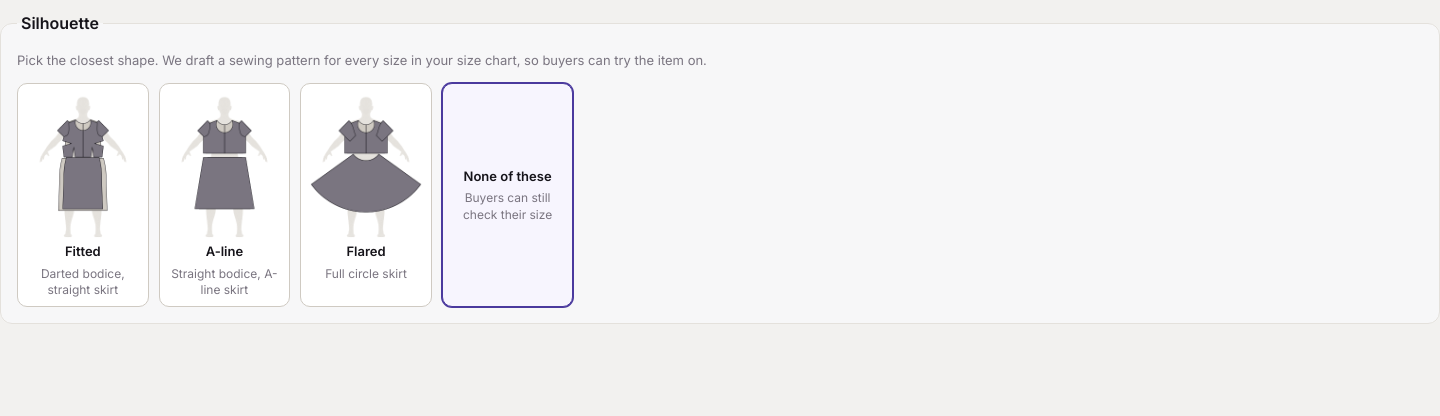
Test: picking a silhouette gives its default knobs; sleeve and length can be changed
Click the button "A-line Straight bodice, A-line skirt": (224, 195) [159,82,290,307]
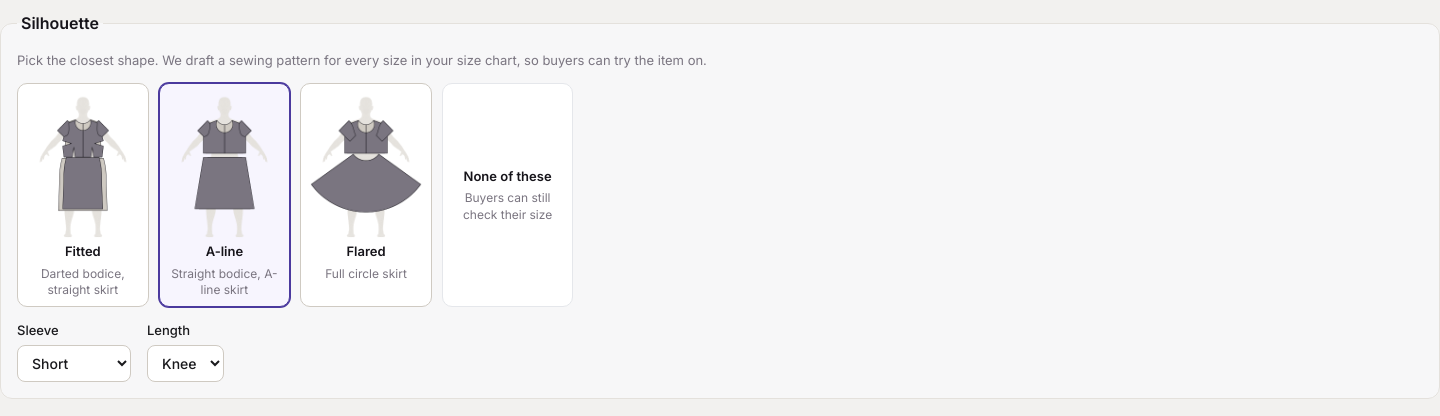
Expected: the button "A-line Straight bodice, A-line skirt" is pressed, [159,82,290,307]
Select "Long" in the dropdown labelled "Sleeve": (74, 363) [17,345,131,382]
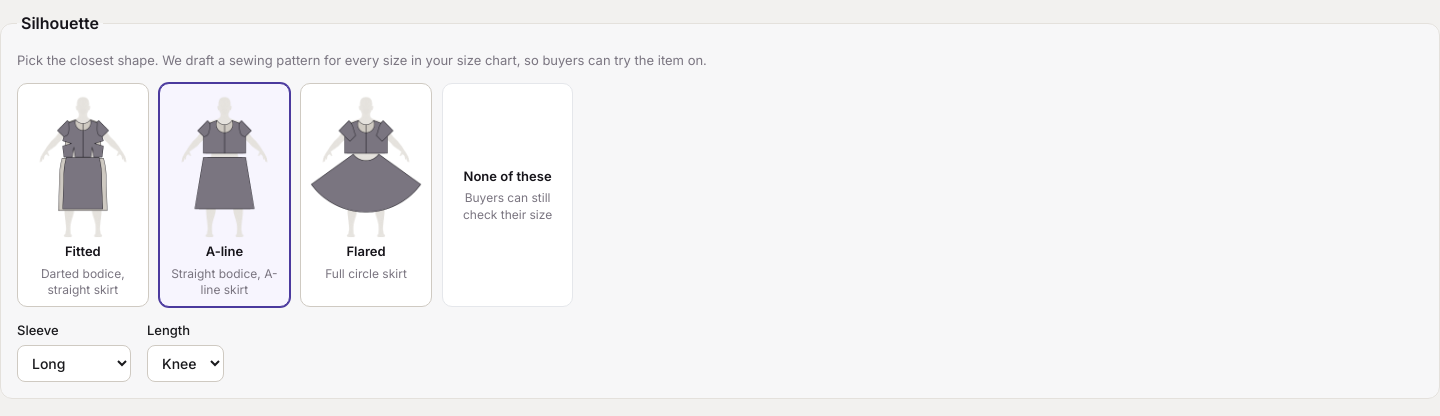
Select "Maxi" in the dropdown labelled "Length": (186, 363) [147,345,224,382]
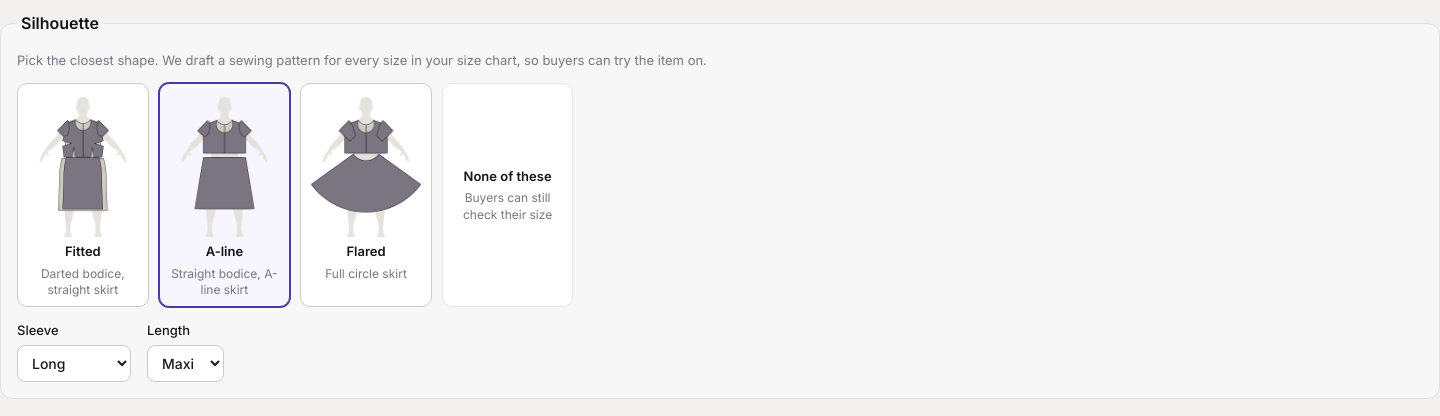
Click the button "None of these Buyers can still check their size": (508, 195) [442,82,573,307]
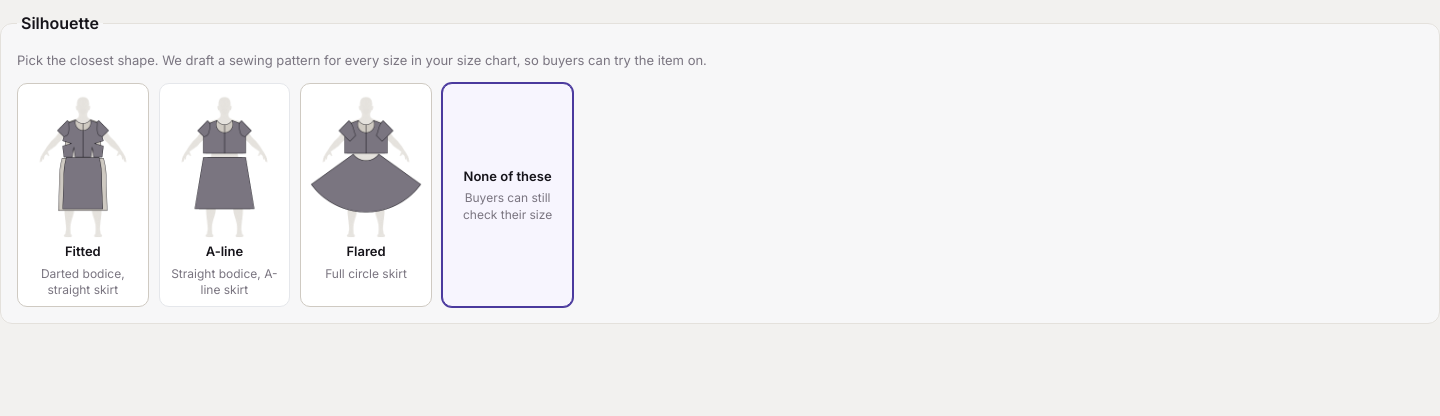
Expected: the label labelled "Length" is gone
